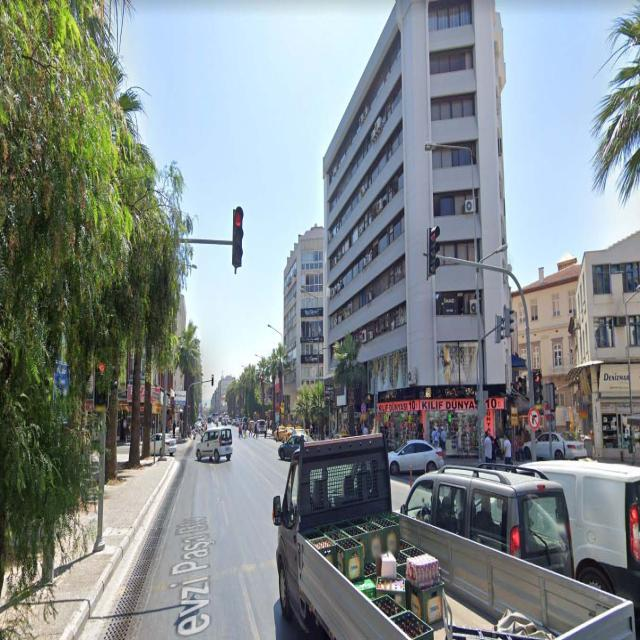kirmizi: (95, 355, 107, 409), (233, 208, 242, 266), (429, 228, 437, 274), (533, 371, 542, 404)
sagadonulmez: (529, 408, 540, 429)
